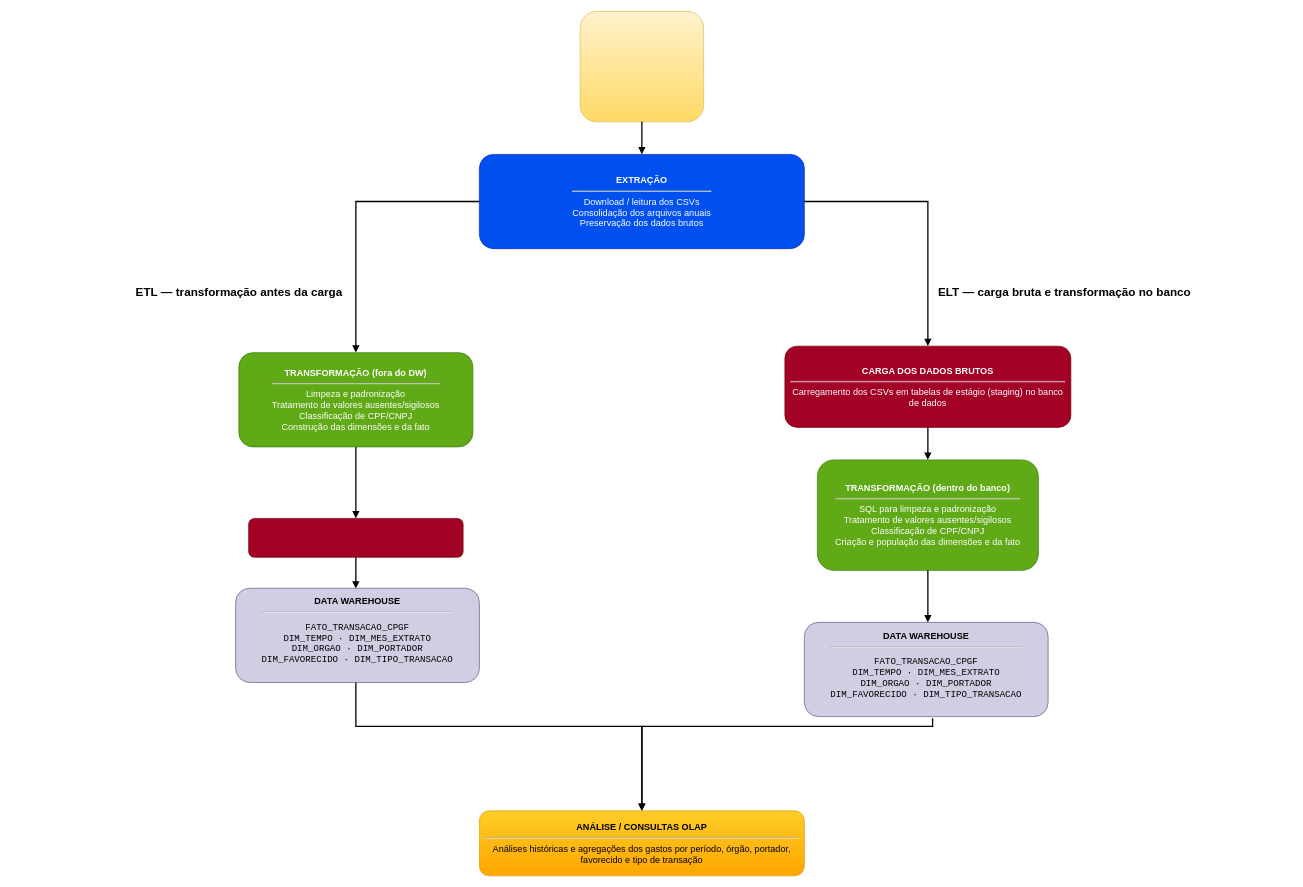
Image size: 1303x887. Some labels were removed from this diagram. Here are the shapes that lost their labels. From the top down, the centre of each, then its label:
At (641,66): "FONTES DE DADOS 2023_CPGF.csv 2024_CPGF.csv 2025_CPGF.csv".
At (355,537): "CARGA NO DATA WAREHOUSE Inserção das dimensões e da tabela fato".
